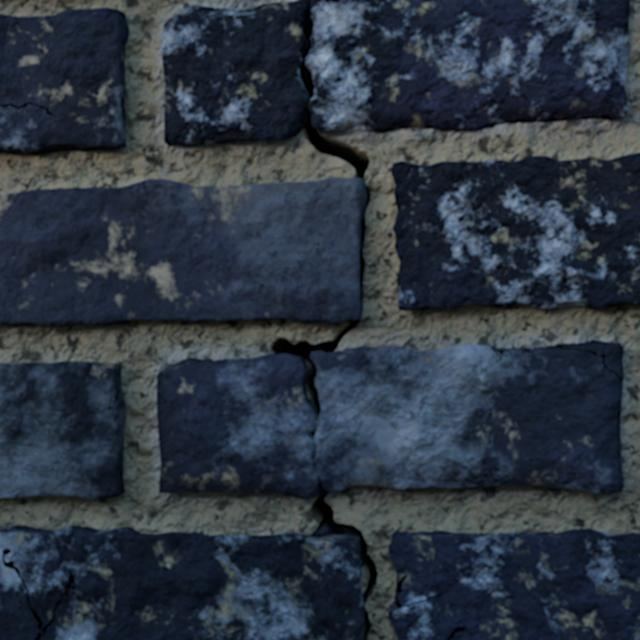broken_brick: (157, 340, 623, 499), (305, 0, 629, 132), (162, 0, 306, 145)
crack: (0, 0, 371, 419), (0, 491, 378, 639), (391, 153, 639, 310), (388, 529, 639, 639), (0, 7, 129, 154), (0, 361, 126, 500), (557, 346, 623, 379), (490, 346, 507, 356), (617, 409, 620, 421)
